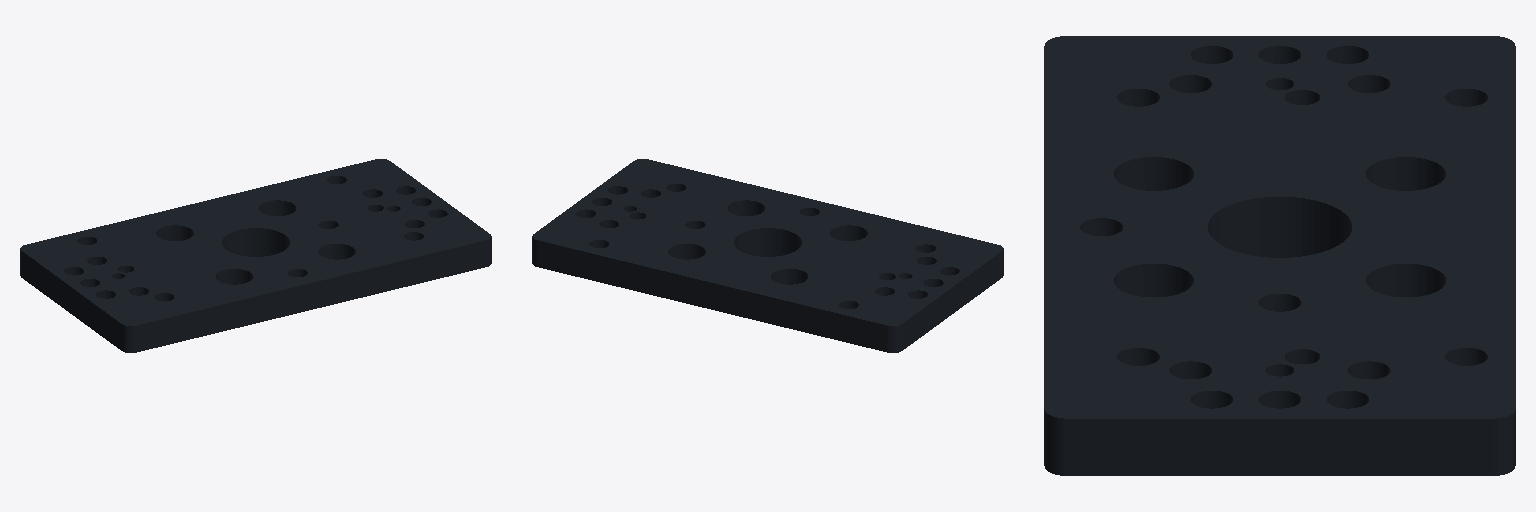
The robot description file, URDF, robot "ati_3700_50_9210":
<robot name="ati_3700_50_9210">
  <!--CC0 procedural reference. See ../README.md; no physical fit or calibrated cutting TCP is asserted.-->
  <link name="mount">
    <visual>
      <geometry>
        <mesh filename="../meshes/robot_plate.stl" />
      </geometry>
      <material name="robot_plate">
        <color rgba=".16 .18 .21 1" />
      </material>
    </visual>
    <collision>
      <origin xyz="0.0 0.0 0.004445" rpy="0 0 0" />
      <geometry>
        <box size="0.127 0.06604 0.00889" />
      </geometry>
    </collision>
    <collision>
      <origin xyz="0.0 0.0 -0.0016510000000000001" rpy="0 0 0" />
      <geometry>
        <cylinder radius="0.01573149" length="0.0033020000000000002" />
      </geometry>
    </collision>
  </link>
  <link name="tcp" />
  <joint name="tcp_joint" type="fixed">
    <parent link="mount" />
    <child link="tcp" />
    <origin xyz="0 0 0.0" rpy="0 0 0" />
  </joint>
  <link name="flange" />
  <joint name="flange_joint" type="fixed">
    <parent link="mount" />
    <child link="flange" />
    <origin xyz="0 0 0.00889" rpy="0 0 0" />
  </joint>
</robot>

--- What the picture shows (computed from the rendered views, not written in the file) ---
Views: 3 orthographic renders of the robot side by side, from view 1: azimuth 30°, elevation 25°; view 2: azimuth 150°, elevation 25°; view 3: azimuth 270°, elevation 25°.
Model ati_3700_50_9210 with 3 links and 2 joints (2 fixed), rooted at mount, posed all joints at 0.
Visible links, largest first — view 1: mount; view 2: mount; view 3: mount.
Boxes of the visible links, left/top/right/bottom form: mount: left=20, top=159, right=491, bottom=352; mount: left=532, top=159, right=1003, bottom=352; mount: left=1044, top=36, right=1515, bottom=475.
Size in the robot's own frame: 0.127 by 0.066 by 0.0122 metres.
1 mesh visuals loaded from 1 distinct referenced files (1 binary STL).
